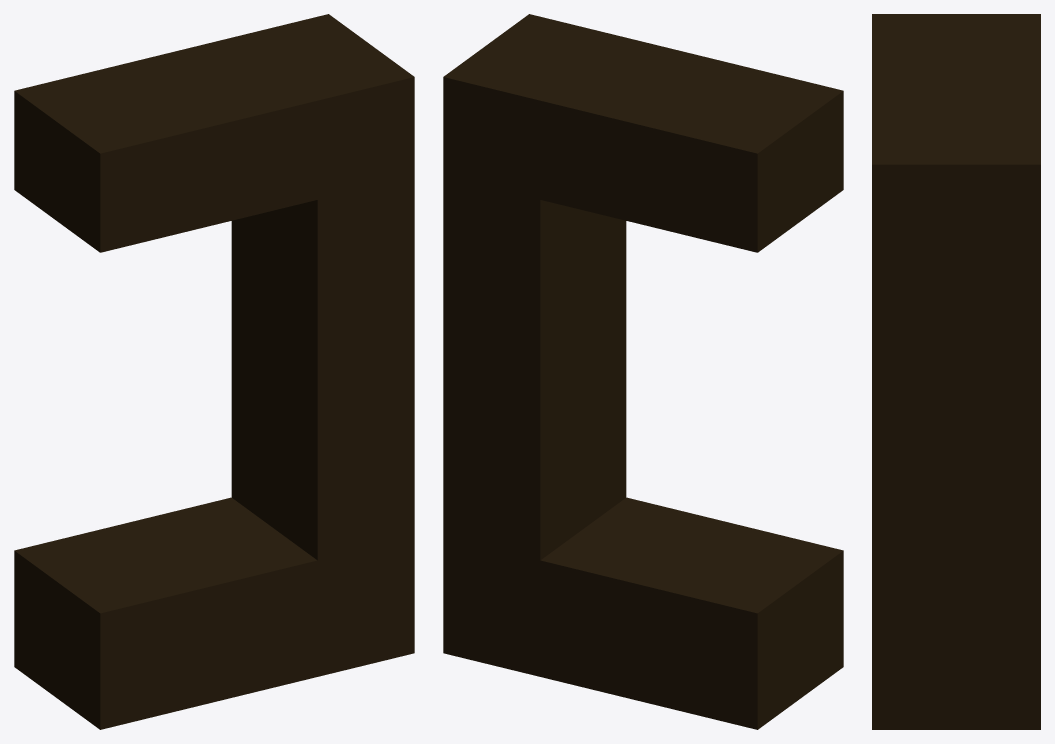
File: Doorhandle.fbx
3 views of the same model, side by side, from view 1: azimuth 30°, elevation 25°; view 2: azimuth 150°, elevation 25°; view 3: azimuth 270°, elevation 25° (orthographic).
Visible parts, largest first — view 1: Cube; view 2: Cube; view 3: Cube.
Part boxes in pixels (x1,y1,x2,y2): Cube: (14,14,414,729); Cube: (443,14,843,729); Cube: (872,14,1040,729).
Size of the model in its own units: 111 by 194 by 52.48.
